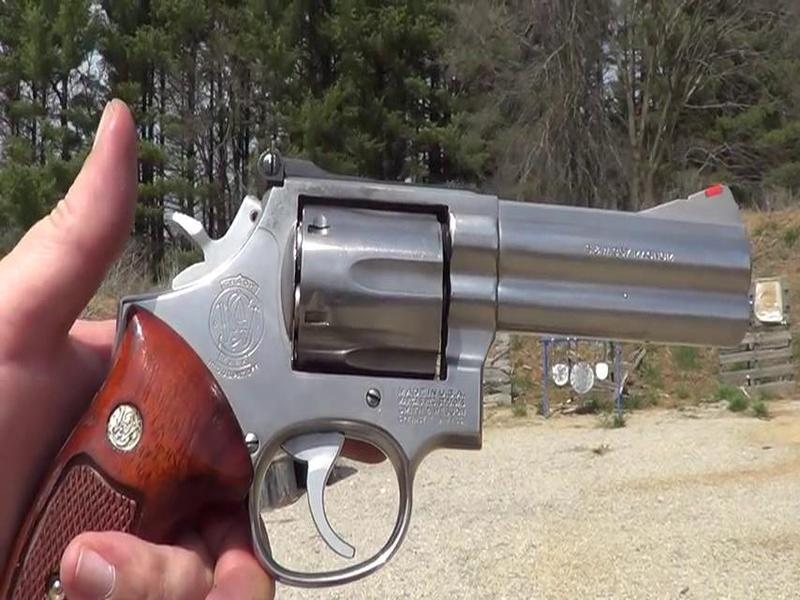Revolver: (80, 131, 784, 596)
